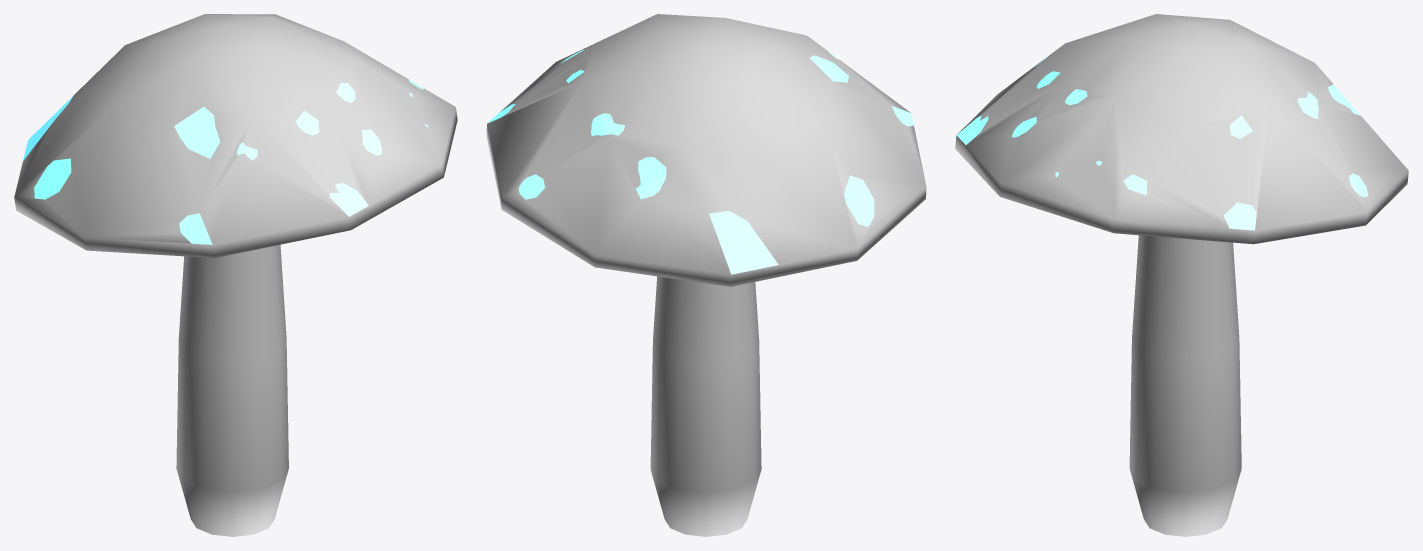
File: mushroomgreen7.fbx
3 views of the same model, side by side, from view 1: azimuth 30°, elevation 25°; view 2: azimuth 150°, elevation 25°; view 3: azimuth 270°, elevation 25° (orthographic).
Visible parts, largest first — view 1: Icosphere.007, Icosphere.001; view 2: Icosphere.007, Icosphere.001; view 3: Icosphere.007, Icosphere.001.
Boxes of the visible parts, bbox=[...] form: Icosphere.007: bbox=[14, 14, 457, 536]; Icosphere.001: bbox=[23, 79, 428, 244]; Icosphere.007: bbox=[486, 14, 926, 536]; Icosphere.001: bbox=[487, 50, 913, 274]; Icosphere.007: bbox=[955, 14, 1408, 536]; Icosphere.001: bbox=[956, 56, 1368, 230].
Bounding box in the file's own units: 1033 × 1293 × 1085.
